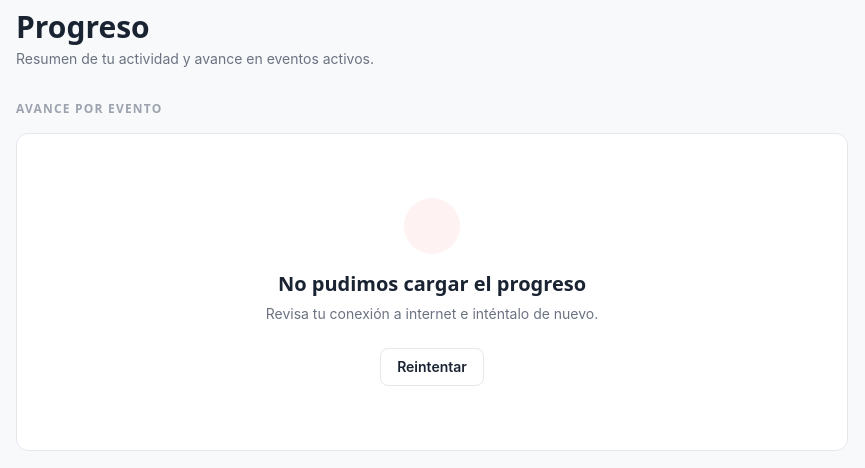
Test: ProgressPage › permite reintentar después de un error al cargar
Expected: the heading "No pudimos cargar el progreso" is shown, [278, 270, 586, 298]
Step 1. Click the button "Reintentar" → (432, 367), box [380, 348, 484, 386]
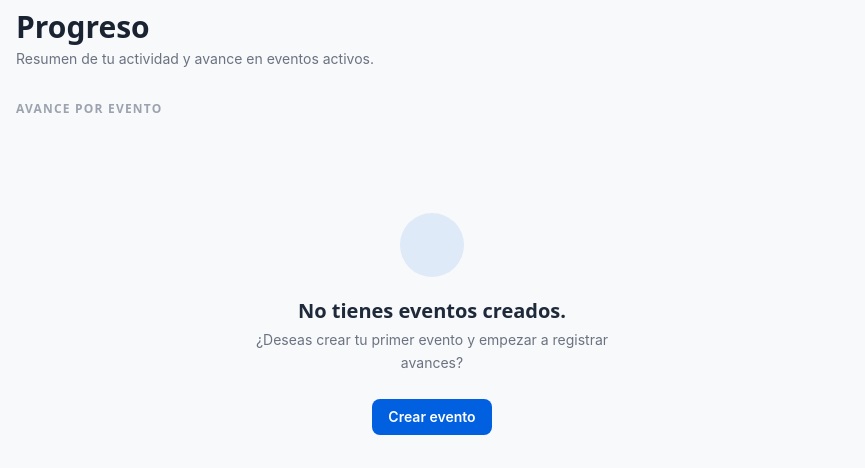
Expected: the heading "No tienes eventos creados." is shown, [298, 297, 566, 325]
